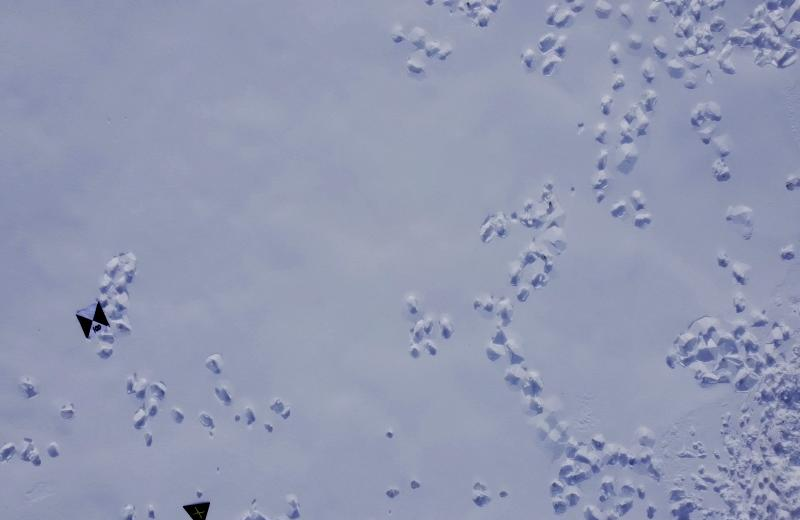Triangle: (183, 482, 218, 518)
